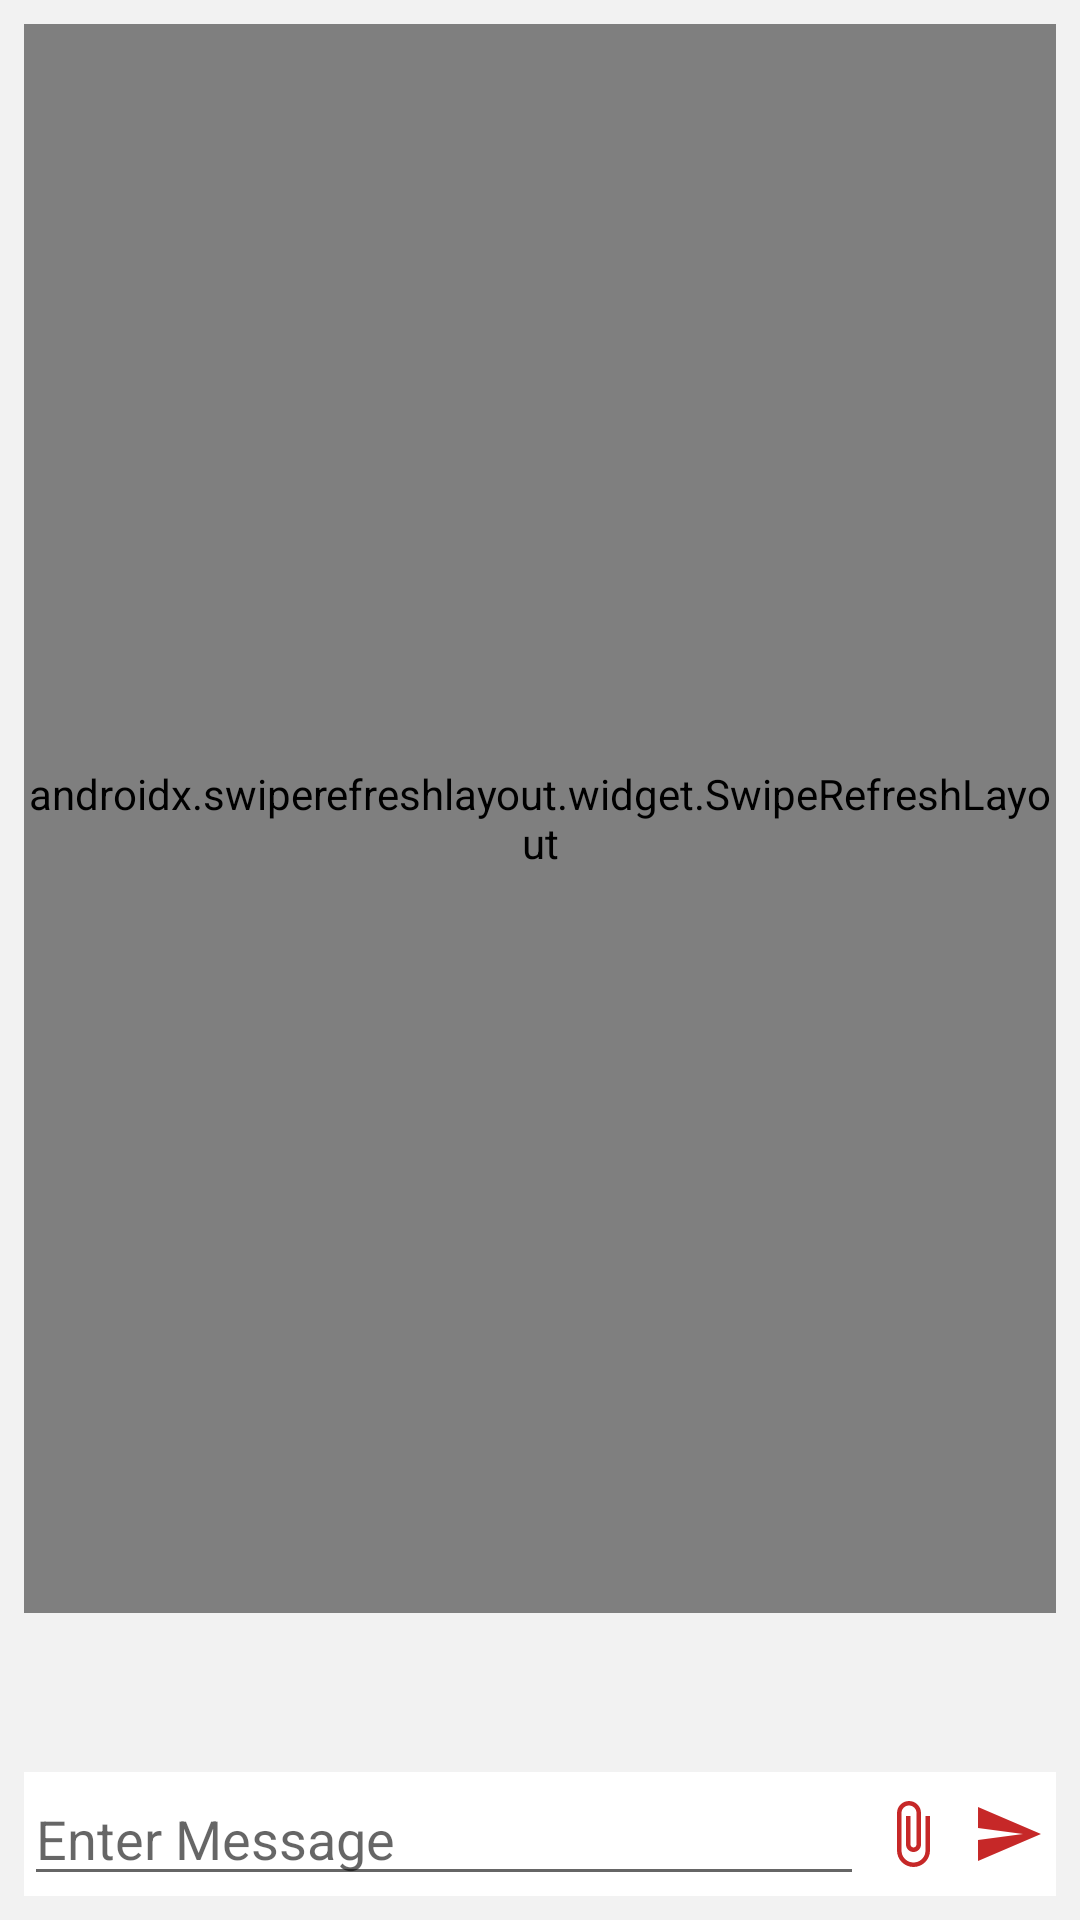

Screen size 1080 × 1920. Icon name, then its center in pixels as (x,y):
attachment: (913,1834)
send: (1009,1834)
